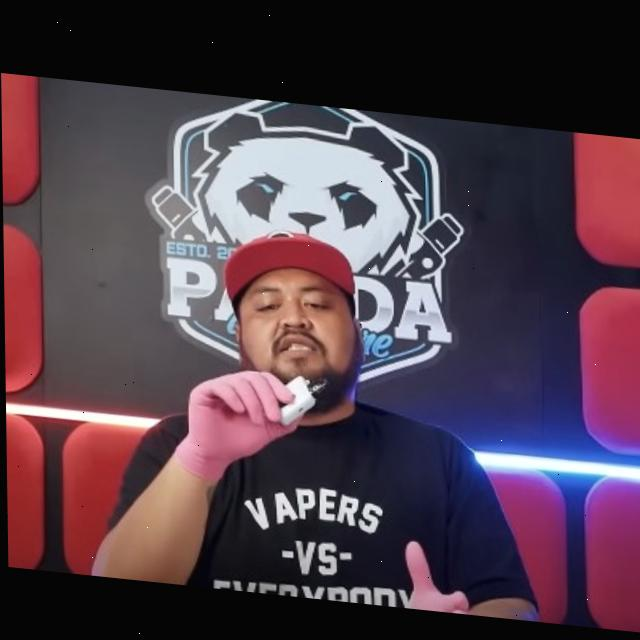vape: (278, 366, 333, 425)
